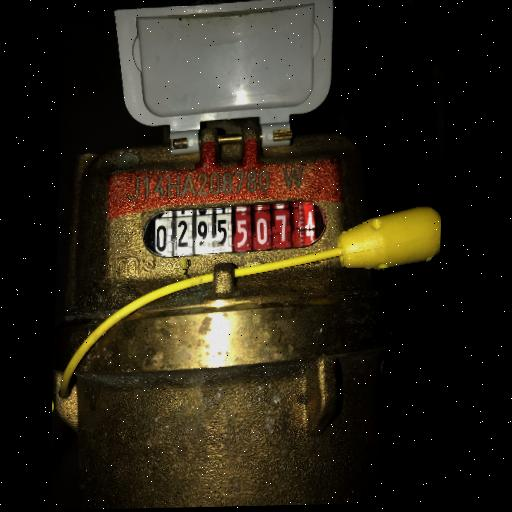0: (250, 209, 274, 251), (154, 217, 174, 257)
2: (172, 215, 195, 257)
4: (290, 198, 318, 248)
5: (230, 210, 254, 253), (211, 212, 235, 254)
7: (269, 207, 293, 250)
9: (193, 215, 215, 256)
border_water_meter_number: (141, 199, 329, 260)
